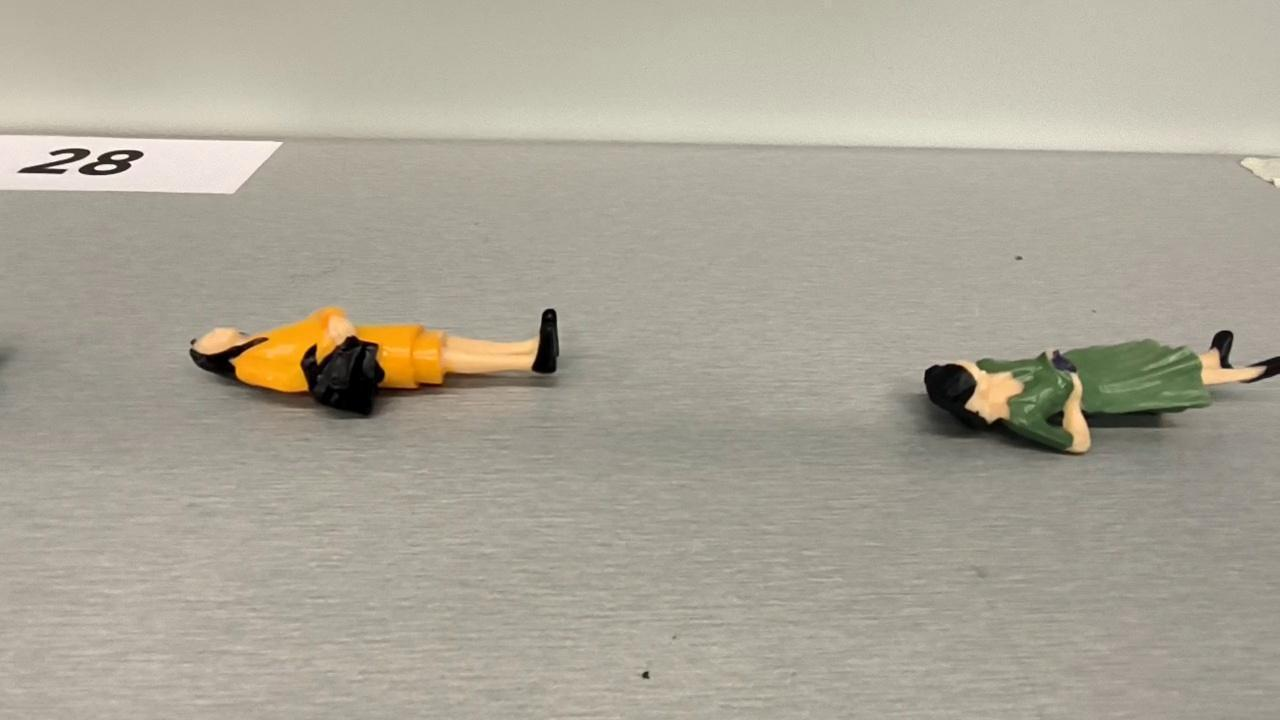human: (924, 329, 1280, 455), (189, 307, 560, 396)
